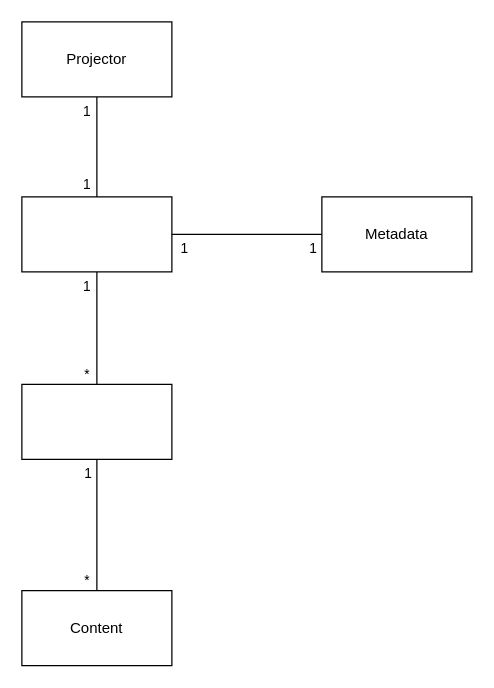
Some shapes in this 494 by 688 pixel diagram are drawn without their labels. Here are the shapes that lost their labels. From the top down, the box of each, then its label:
(21, 196, 172, 272): Slideshow
(21, 383, 172, 459): Slide
